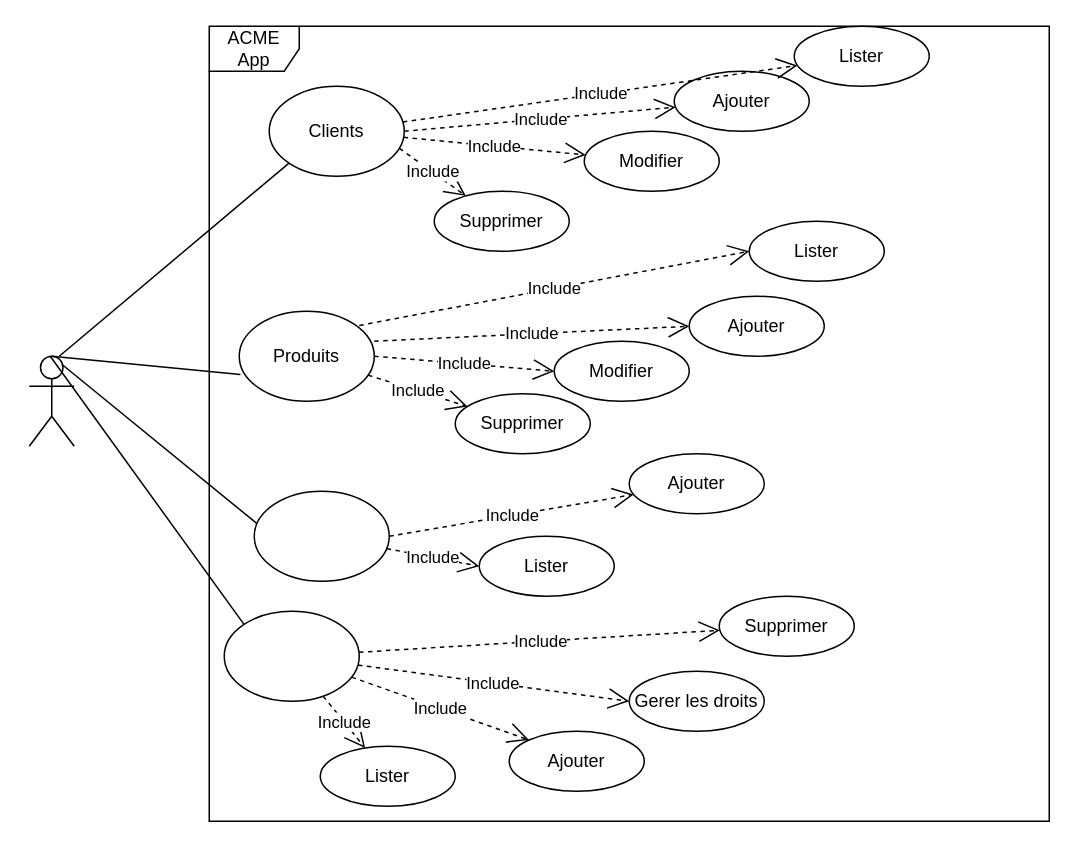
The diagram is 1076 pixels wide and 848 high, and some of its shapes have lost their labels. The shapes that lost their labels are listed below. From the top down, each one's centre as x and y in pixels, then its label:
At (51,400): "Admin".
At (321,535): "Commandes".
At (291,655): "Commerciaux".
